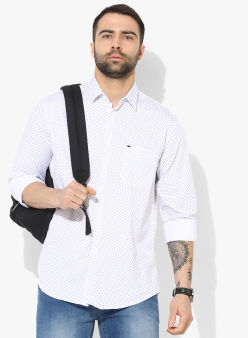NOTSAFE: (48, 3, 163, 299)
